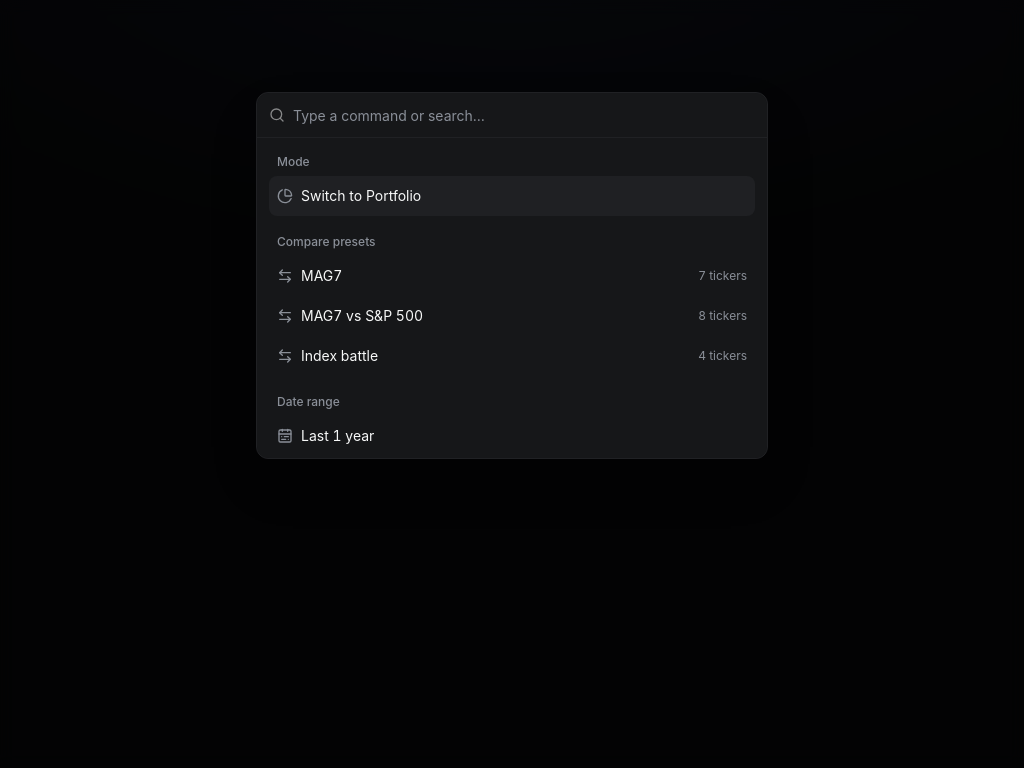
CommandPalette › filters commands by the typed query
The image size is (1024, 768).
Type "battle" into the dropdown with placeholder "Type a command or search…" at (524, 115), box x1=293 y1=93 x2=755 y2=137
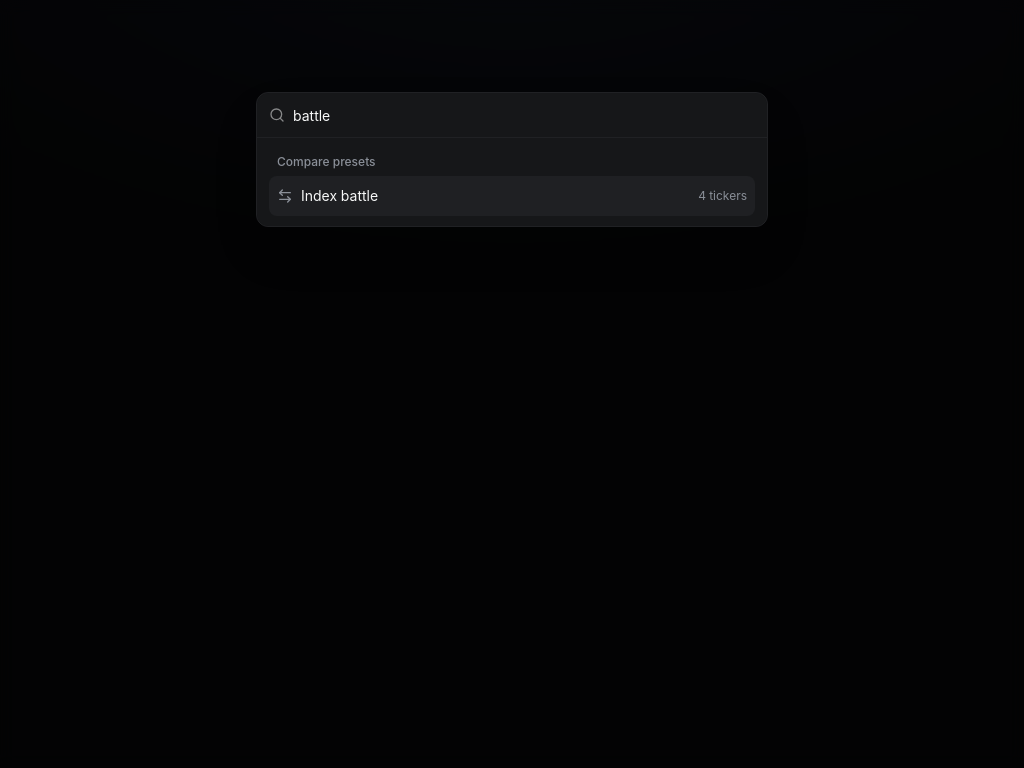
expect the option "Index battle 4 tickers" is shown: met, box x1=269 y1=176 x2=755 y2=216
expect the option "Switch to Portfolio" is gone: met
